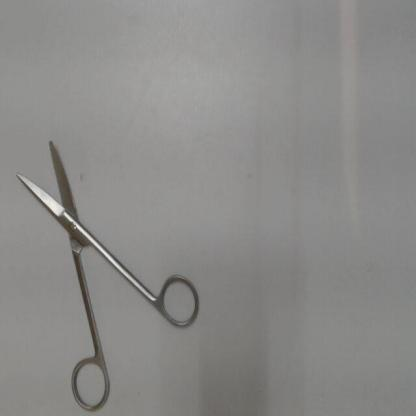Curved Mayo Scissors: (12, 131, 206, 414)
